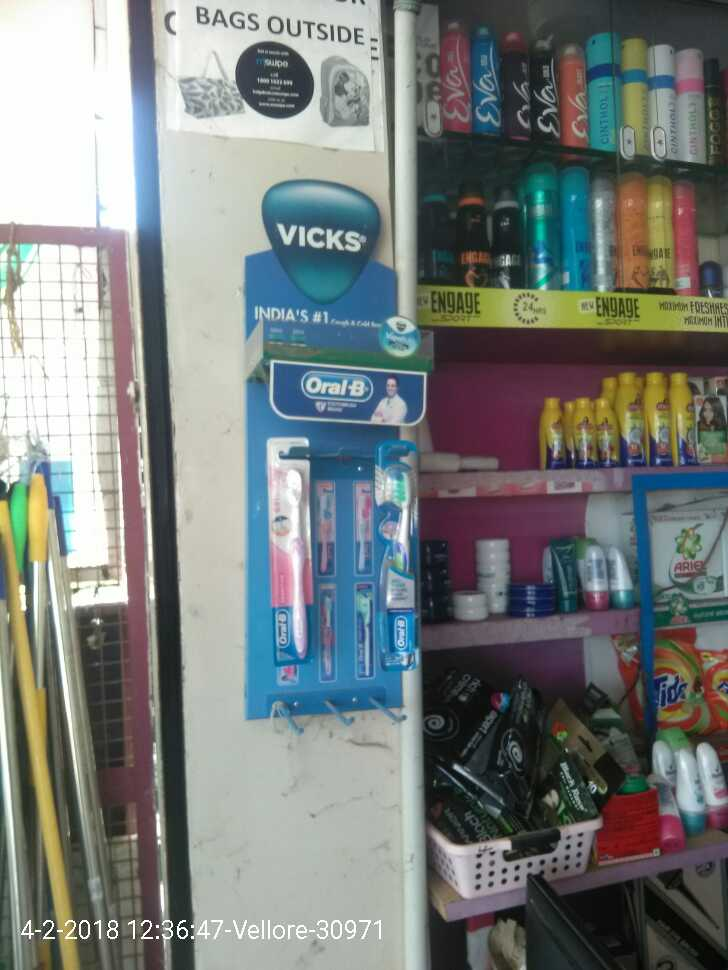home: (607, 629, 714, 743), (646, 515, 728, 597)
pharmacy: (265, 462, 324, 661), (379, 455, 415, 639)
